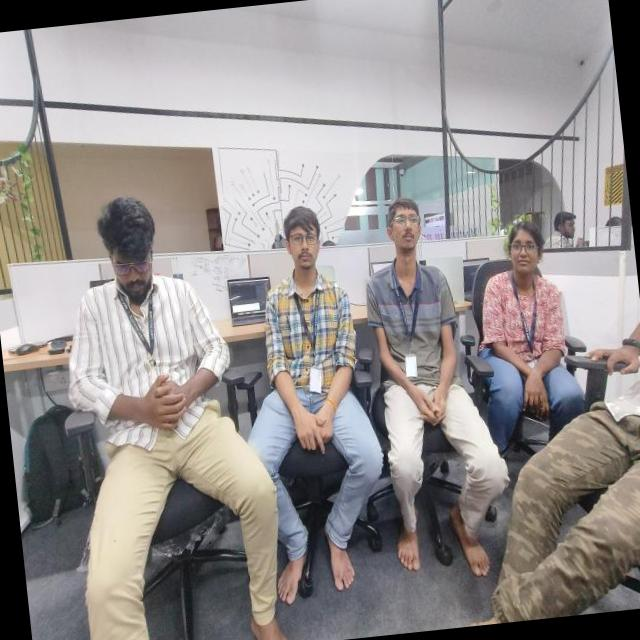id_card: (115, 273, 170, 386), (287, 283, 335, 396), (390, 273, 432, 387), (509, 277, 549, 372)
